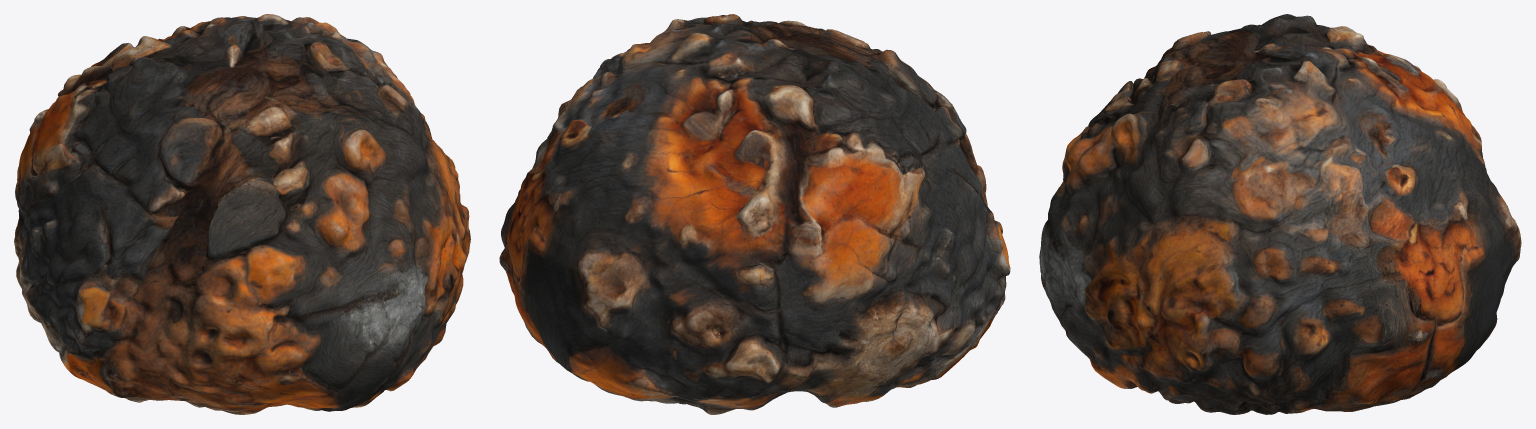
Rendered from Chaga_GLTF.gltf.
3 views of the same model, side by side, from view 1: azimuth 30°, elevation 25°; view 2: azimuth 150°, elevation 25°; view 3: azimuth 270°, elevation 25° (orthographic). The views are drawn at different scales.
Visible parts, largest first — view 1: Node #0; view 2: Node #0; view 3: Node #0.
Boxes of the visible parts, x1,y1,x2,y2 form: Node #0: [14, 14, 470, 414]; Node #0: [499, 14, 1010, 414]; Node #0: [1039, 14, 1521, 414].
Bounding box in the file's own units: 1.91 × 1.47 × 2.
1 material, 1 textured.
